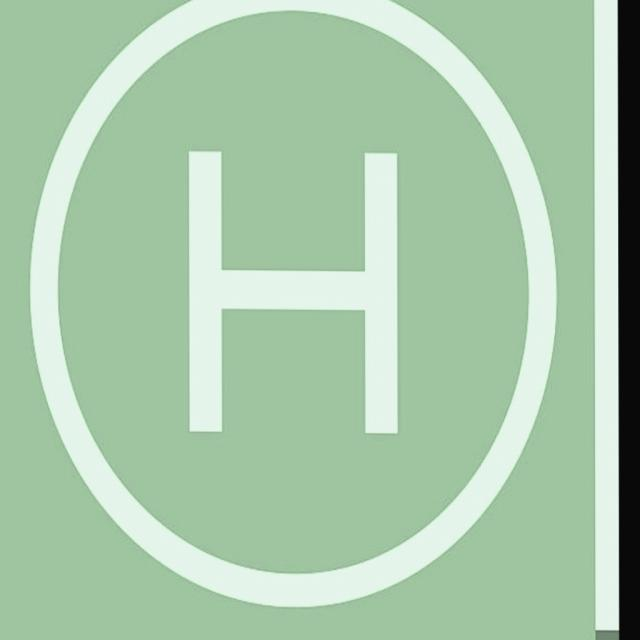helipad: (25, 0, 567, 614)
